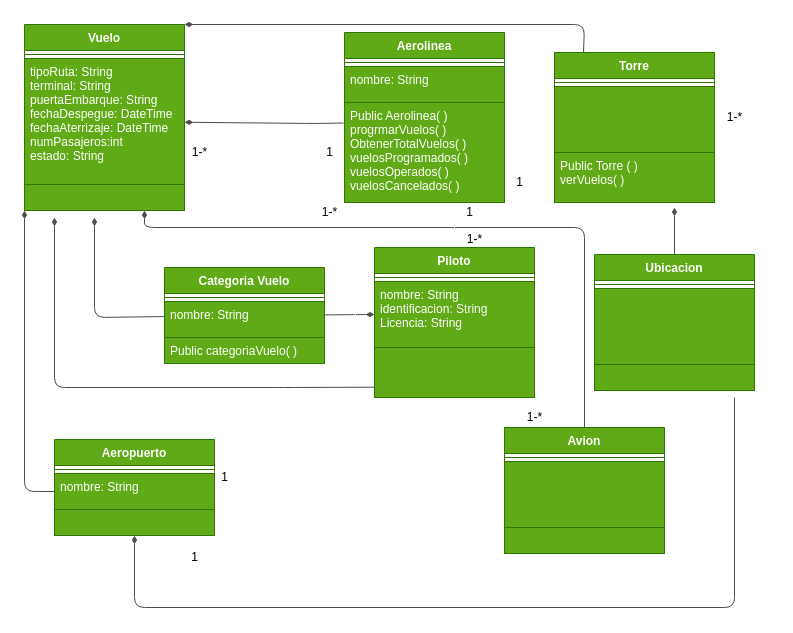
This 793x633 diagram has some shape labels left out. The centre of each missing label's shape, as x and y in pixels:
capacidad: int marca: String referencia: String: point (584, 494)
Latitud: String Longitud: String Ciudad: String Direccion: String: point (674, 326)
numIdentificacion: int Correo: String telefonmo: String: point (634, 119)
Public Aeropuerto( ): point (134, 522)
Public Avion( ): point (584, 540)
Public Piloto( ) verVuelos( ): point (454, 372)
Public Ubicacion( ): point (674, 377)
Public Vuelo( ): point (104, 197)
